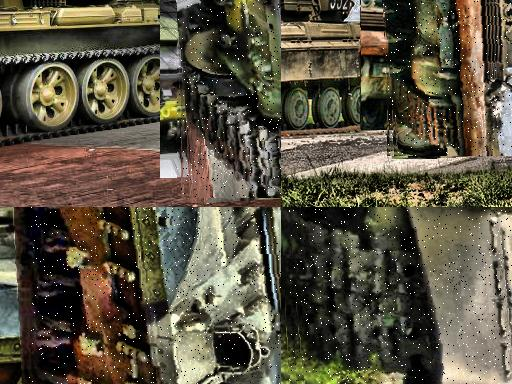tanks: (33, 208, 282, 384), (290, 208, 512, 384), (179, 1, 282, 198), (385, 1, 512, 157), (282, 1, 397, 131)
